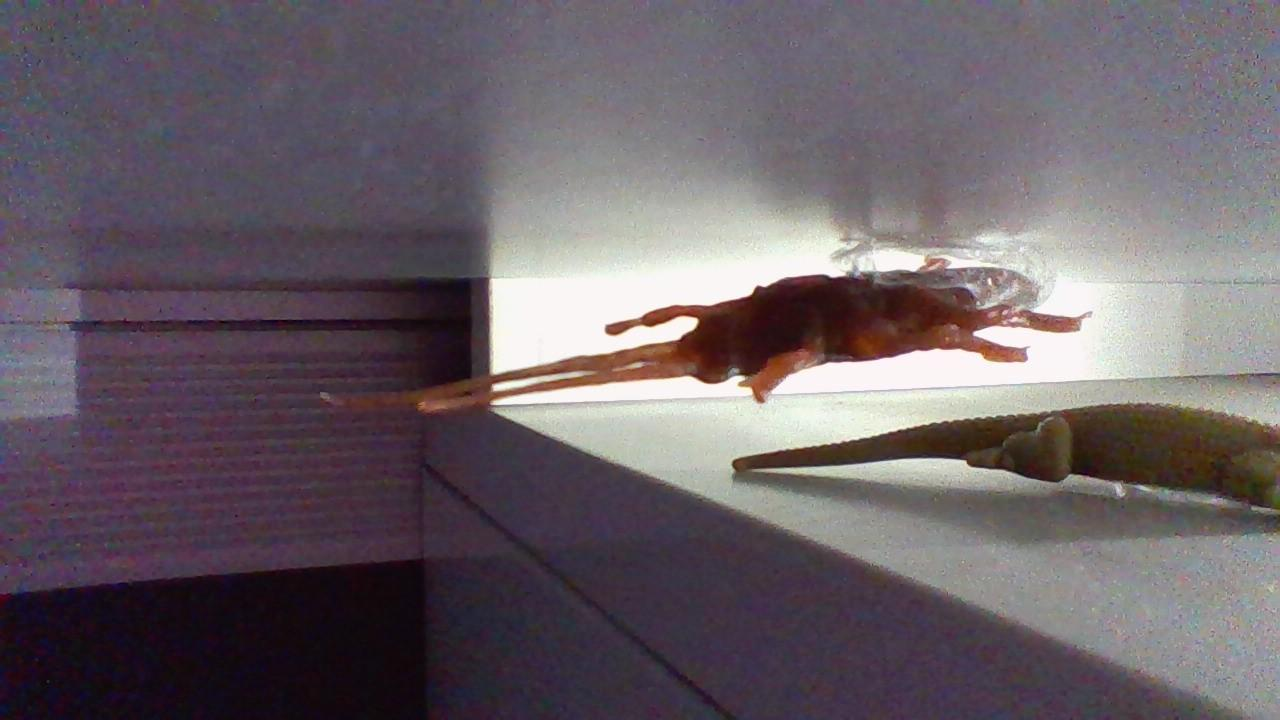cockroach: (289, 267, 1094, 405)
lizard: (731, 398, 1280, 530)
